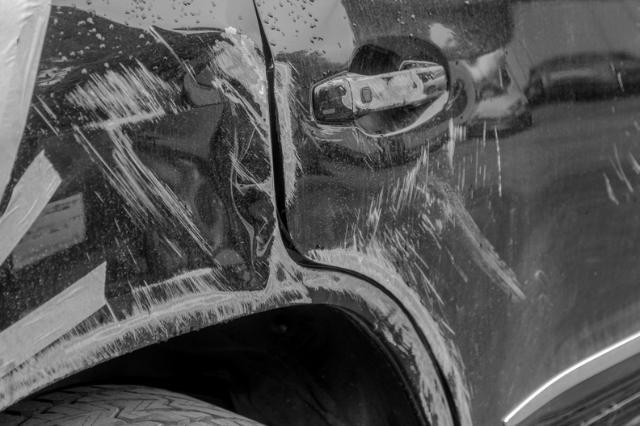Door: (250, 0, 640, 426)
Fender: (0, 0, 469, 426)
